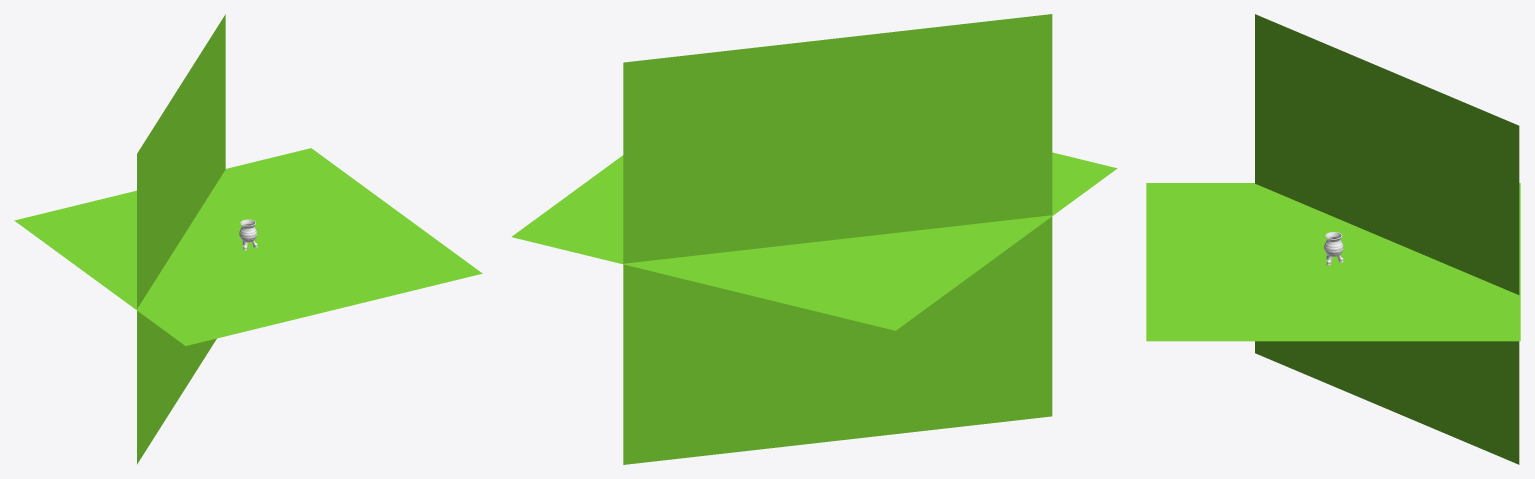
Rendered from Choron.glb.
3 renders of one model, left to right at view 1: azimuth 30°, elevation 25°; view 2: azimuth 150°, elevation 25°; view 3: azimuth 270°, elevation 25°, orthographic. The views are drawn at different scales.
Visible parts, largest first — view 1: Plane, Plane.001; view 2: Plane.001, Plane; view 3: Plane.001, Plane, tmpykab4680.ply.
Boxes of the visible parts, x1,y1,x2,y2 form: Plane: (14, 148, 482, 345); Plane.001: (137, 14, 225, 464); Plane.001: (623, 14, 1052, 464); Plane: (512, 152, 1117, 330); Plane.001: (1255, 14, 1519, 464); Plane: (1146, 183, 1520, 341); tmpykab4680.ply: (1324, 232, 1343, 265).
Bounding box in the file's own units: 25.1 × 25.1 × 25.1.
